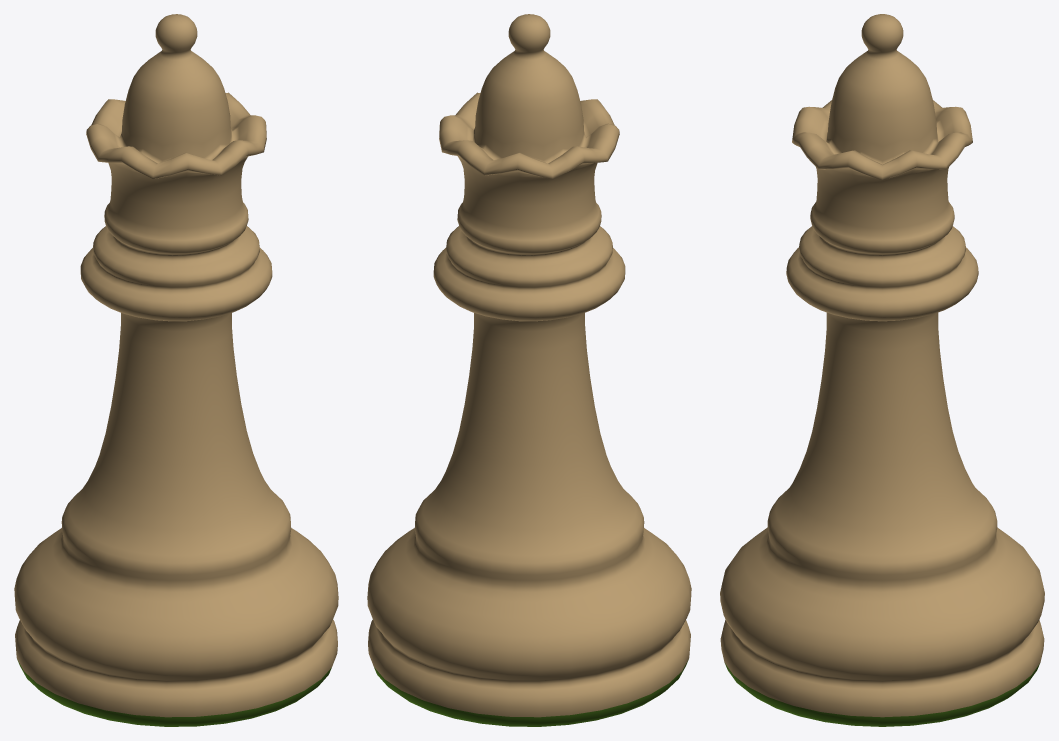
File: whitequeen.glb
The picture shows the model from 3 angles, left to right: view 1: azimuth 30°, elevation 25°; view 2: azimuth 150°, elevation 25°; view 3: azimuth 270°, elevation 25°; orthographic projection.
Parts seen in each view (by area): view 1: whitequeen; view 2: whitequeen; view 3: whitequeen.
Part boxes in pixels (left/top/right/bottom): whitequeen: left=14, top=14, right=338, bottom=726; whitequeen: left=367, top=14, right=691, bottom=726; whitequeen: left=720, top=14, right=1044, bottom=726.
Bounding box in the file's own units: 0.6465 × 1.45 × 0.6465.
